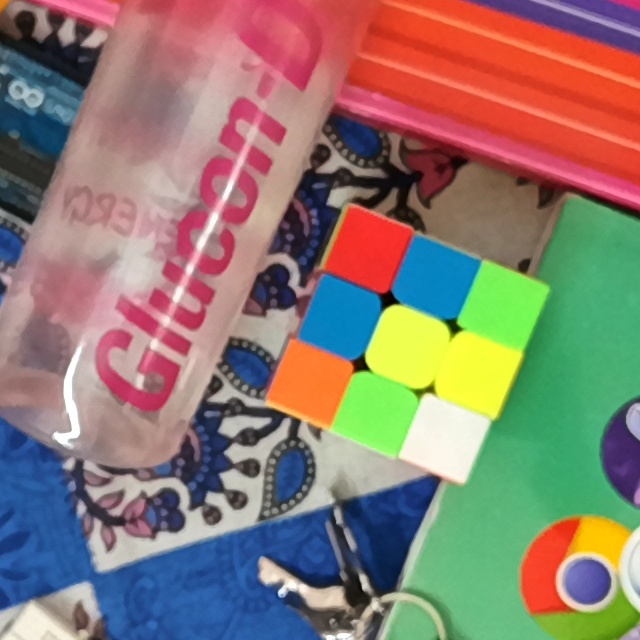tile: (477, 282, 531, 333), (316, 294, 368, 346), (381, 322, 432, 374), (409, 254, 460, 305), (349, 387, 403, 435), (453, 346, 501, 399), (283, 358, 334, 406), (343, 227, 393, 274), (417, 416, 468, 461)
